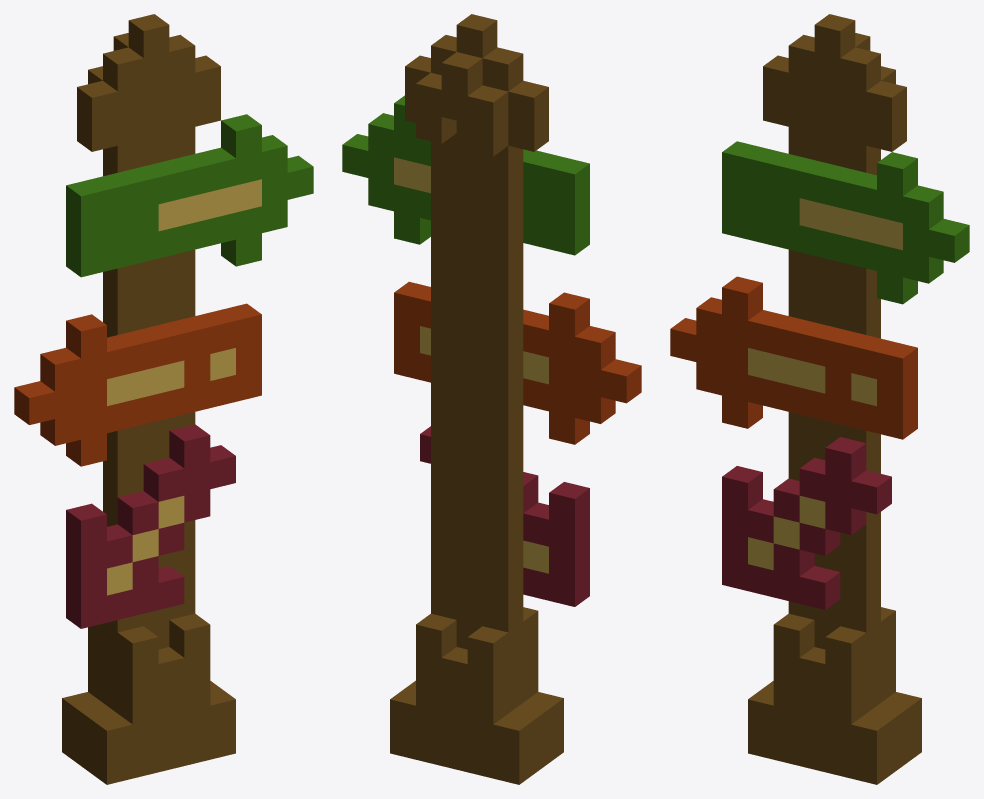
File: roadSign.obj
The picture shows the model from 3 angles, left to right: view 1: azimuth 30°, elevation 25°; view 2: azimuth 150°, elevation 25°; view 3: azimuth 330°, elevation 25°; orthographic projection.
Bounding box in the file's own units: 11 × 27 × 3.
1 material, 1 textured.
